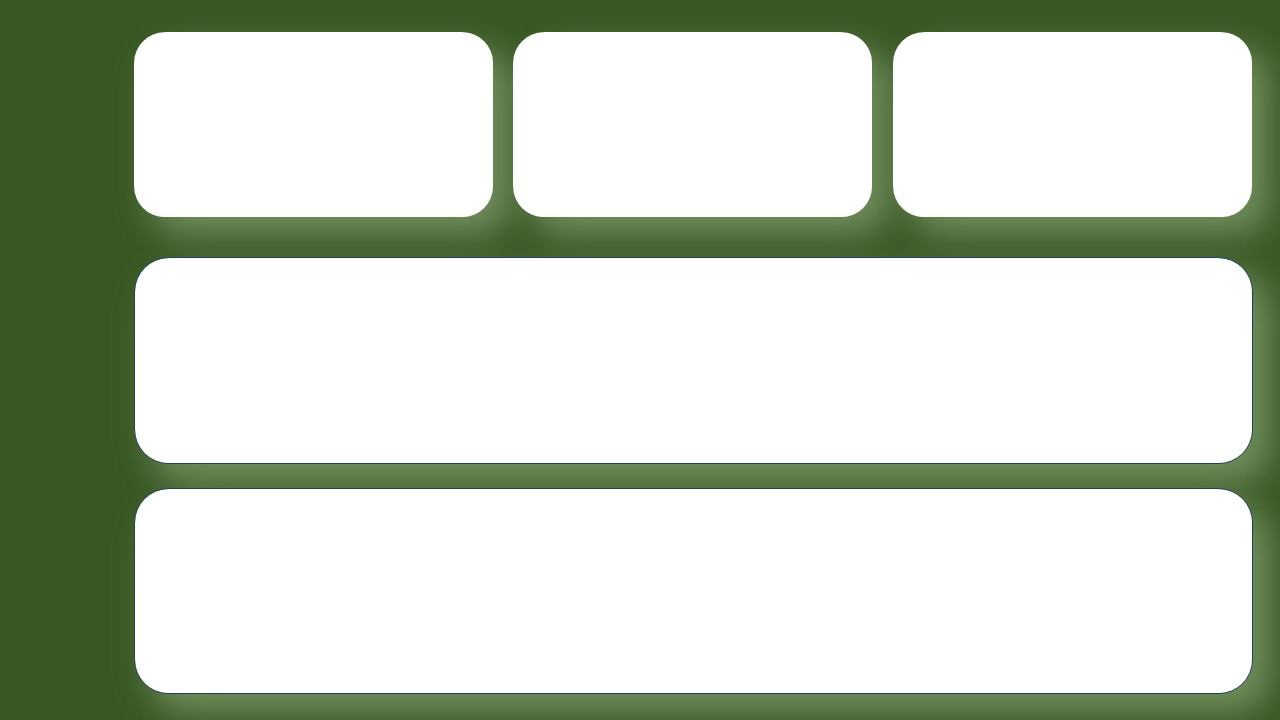

The page's visual inventory and layout, read from the dashboard file:
{"tool":"powerbi","page":{"name":"Domů","canvas":[1280,720],"ordinal":0},"visuals":[{"type":"actionButton","box":[8.4,20.5,118.2,113.4],"z":0},{"type":"actionButton","box":[7.2,205.1,119.4,119.4],"z":1000},{"type":"actionButton","box":[7.2,445.2,120.6,120.6],"z":2000},{"type":"actionButton","box":[8.4,323.3,119.4,119.4],"z":3000}]}

Visuals, with their boxes in screenshot pixels (x1, y1, x2, y2), scaled from the page's 1280x720 canvas onto the 1280x720 screenshot:
actionButton: rect(8, 20, 127, 134)
actionButton: rect(7, 205, 127, 324)
actionButton: rect(7, 445, 128, 566)
actionButton: rect(8, 323, 128, 443)
